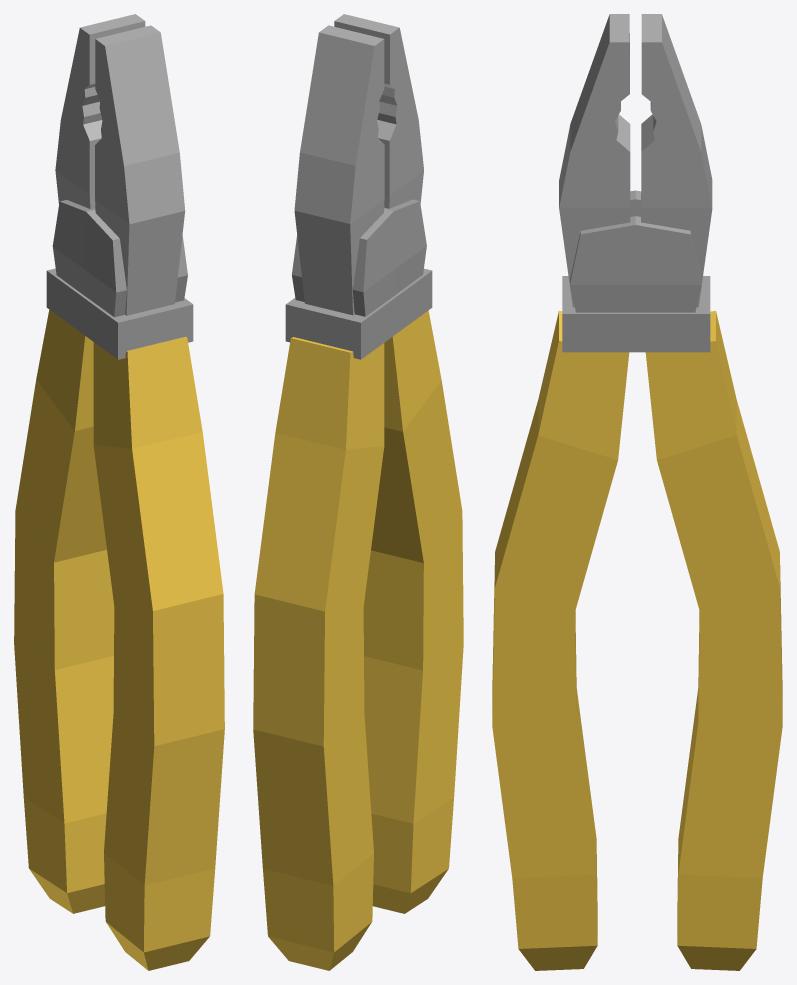
The model's file is Pinzas_Amarillas.fbx.
The picture shows the model from 3 angles, left to right: view 1: azimuth 30°, elevation 25°; view 2: azimuth 150°, elevation 25°; view 3: azimuth 270°, elevation 25°; orthographic projection. The views are drawn at different scales.
Visible parts, largest first — view 1: Cube.010, Cube.014, Cube.011, Cube.015, Cube.013, Cube.012, Cube.016; view 2: Cube.014, Cube.010, Cube.015, Cube.011, Cube.013, Cube.012, Cube.016; view 3: Cube.014, Cube.010, Cube.015, Cube.011, Cube.016, Cube.012.
Part boxes in pixels (x1,y1,x2,y2): Cube.010: (93, 336, 224, 970); Cube.014: (14, 310, 114, 913); Cube.011: (95, 25, 185, 315); Cube.015: (55, 14, 145, 208); Cube.013: (52, 199, 126, 317); Cube.012: (46, 268, 193, 359); Cube.016: (175, 235, 187, 302); Cube.014: (253, 337, 384, 970); Cube.010: (363, 310, 463, 913); Cube.015: (294, 25, 384, 315); Cube.011: (334, 14, 423, 208); Cube.013: (352, 199, 426, 316); Cube.012: (285, 268, 432, 359); Cube.016: (292, 235, 304, 301); Cube.014: (645, 310, 782, 970); Cube.010: (492, 310, 629, 970); Cube.015: (641, 14, 712, 307); Cube.011: (559, 14, 630, 307); Cube.016: (570, 216, 701, 312); Cube.012: (562, 276, 710, 352).
Bounding box in the file's own units: 49.02 × 560 × 158.
